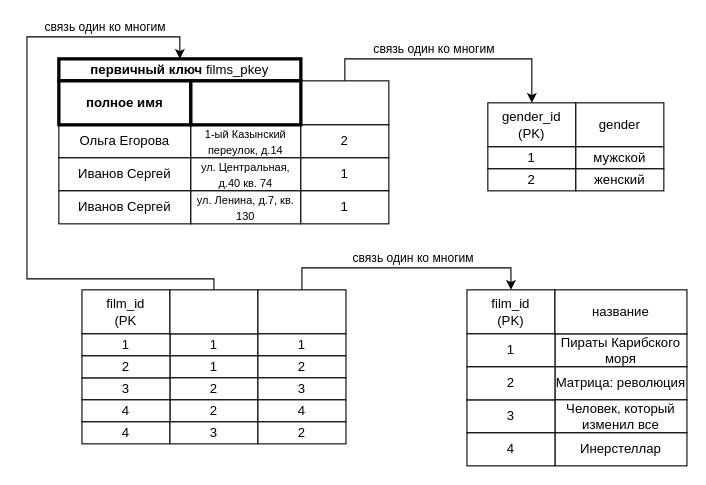
Image size: 706x485. Some labels were removed from this diagram. Here are the shapes that lost their labels. From the top down, the box of each, then its label:
(189, 79, 302, 126): адрес
(300, 80, 389, 125): foreign key gender_id
(169, 289, 258, 334): foreign key films_pkey
(257, 289, 346, 334): foreign key film_id
